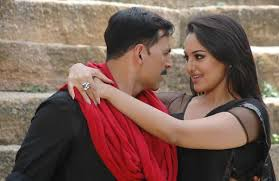Bad: (6, 7, 275, 181)
